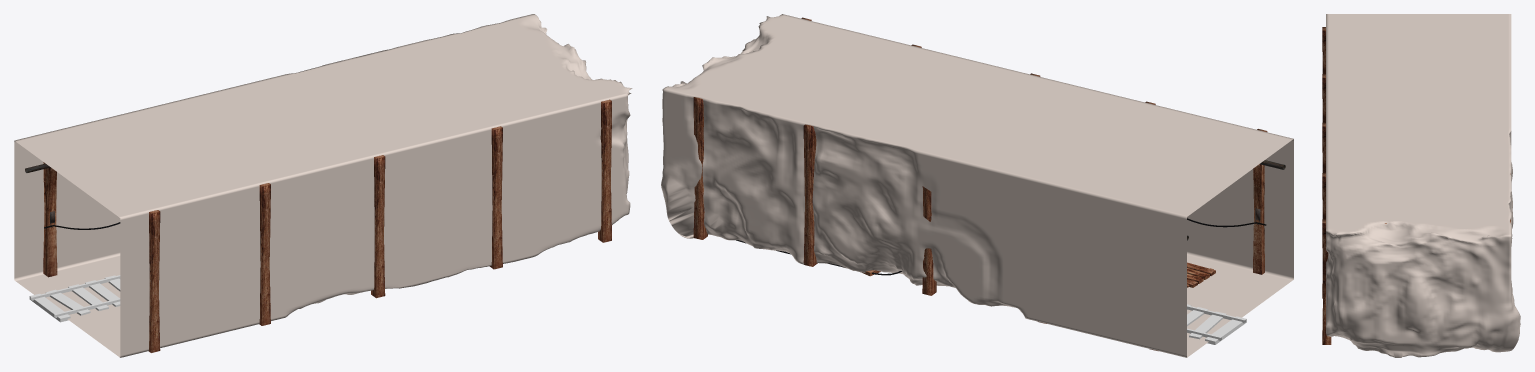
The model's file is Mine.fbx.
The picture shows the model from 3 angles, left to right: view 1: azimuth 30°, elevation 25°; view 2: azimuth 150°, elevation 25°; view 3: azimuth 270°, elevation 25°; orthographic projection. The views are drawn at different scales.
Visible parts, largest first — view 1: Plane.000; view 2: Plane.000; view 3: Plane.000.
Boxes of the visible parts, <box> form: Plane.000: <box>14,14,632,357</box>; Plane.000: <box>661,14,1293,357</box>; Plane.000: <box>1322,14,1520,357</box>.
Size of the model in its own units: 2851 by 729 by 1040.
